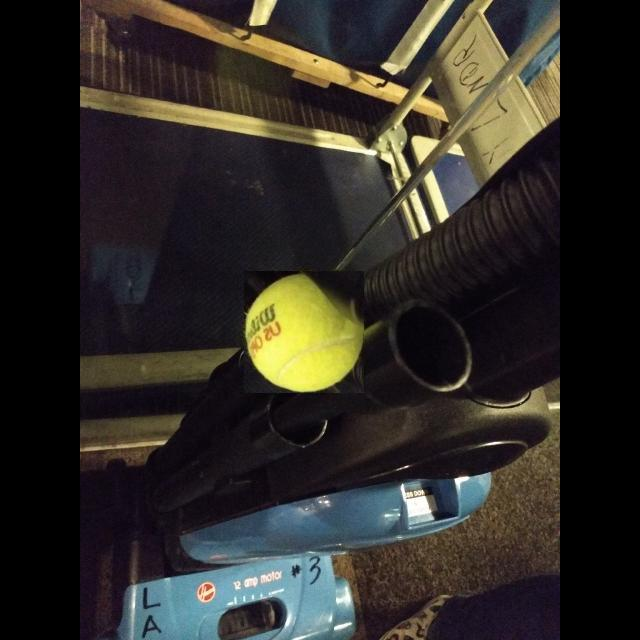tennis ball: (244, 271, 364, 393)
